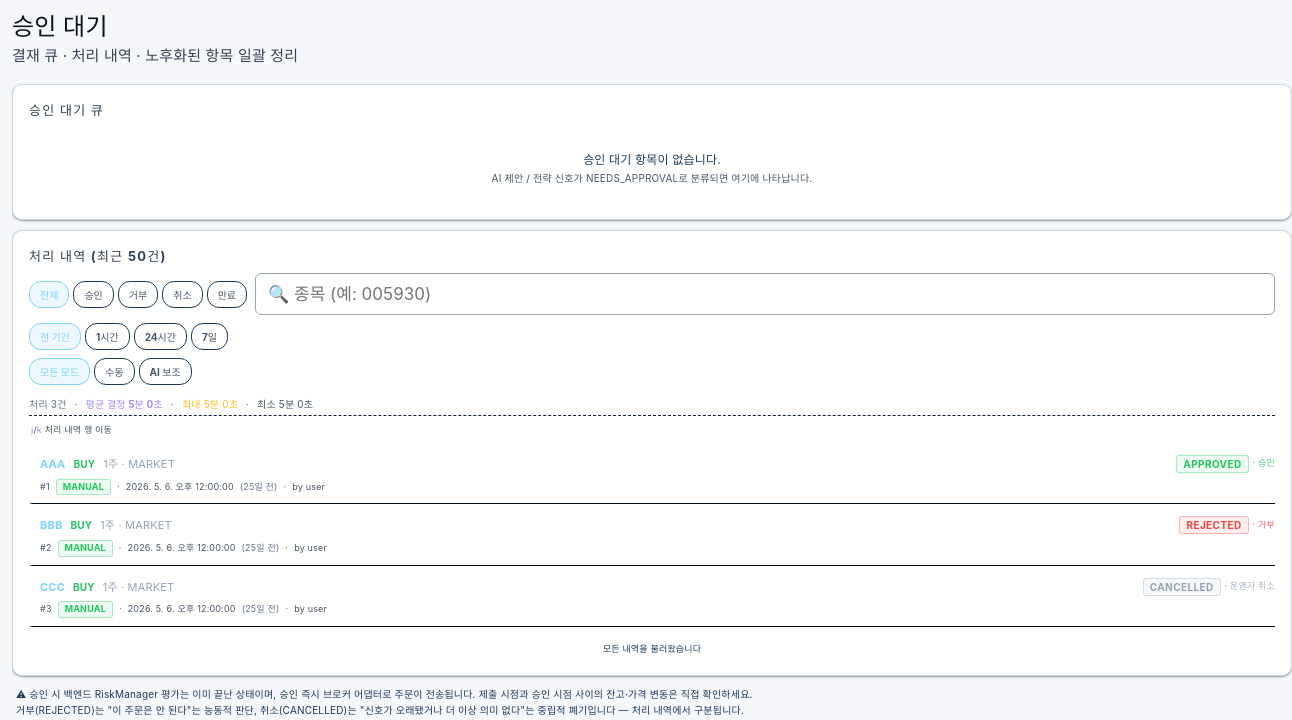
Test: <Approvals> 처리 내역 status filter › clicking 거부 narrows to REJECTED rows only
Click the radio button labelled "거부": {"x": 138, "y": 294} [118,281,158,308]
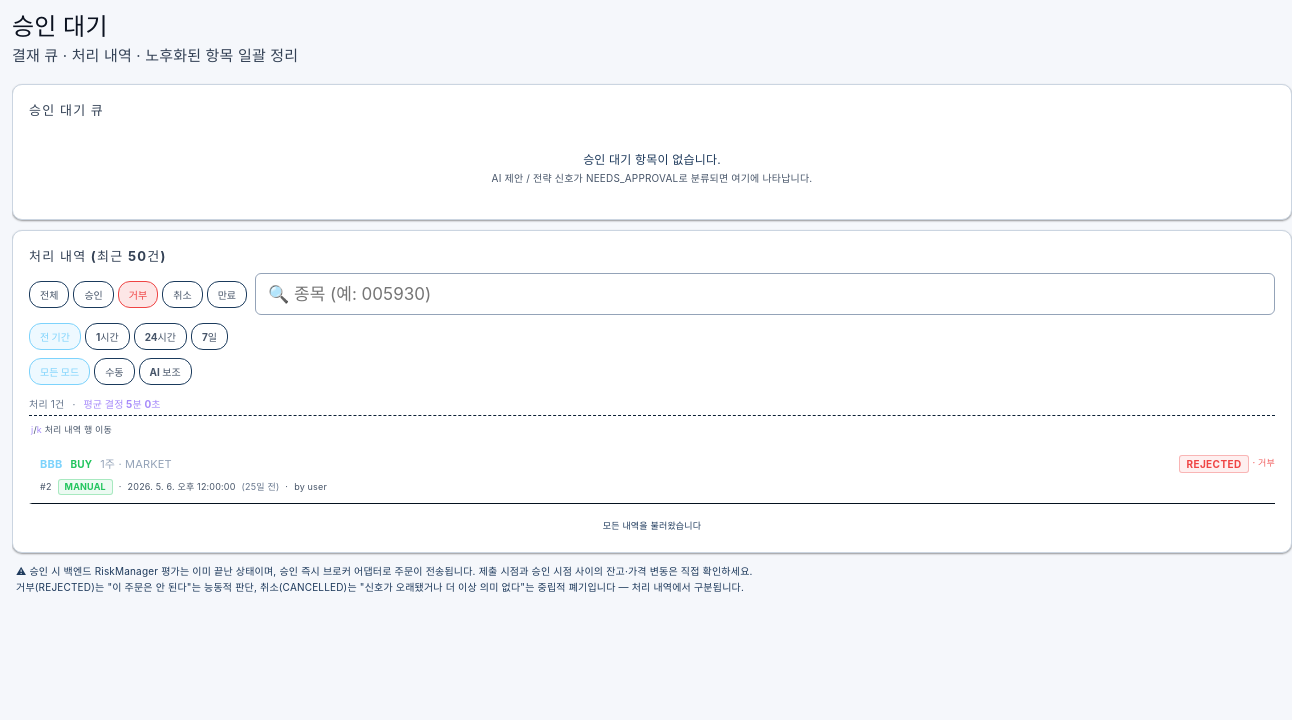
expect the text "BBB" is shown: met, box [40,457,62,471]
expect the text "AAA" is gone: met
expect the text "CCC" is gone: met
